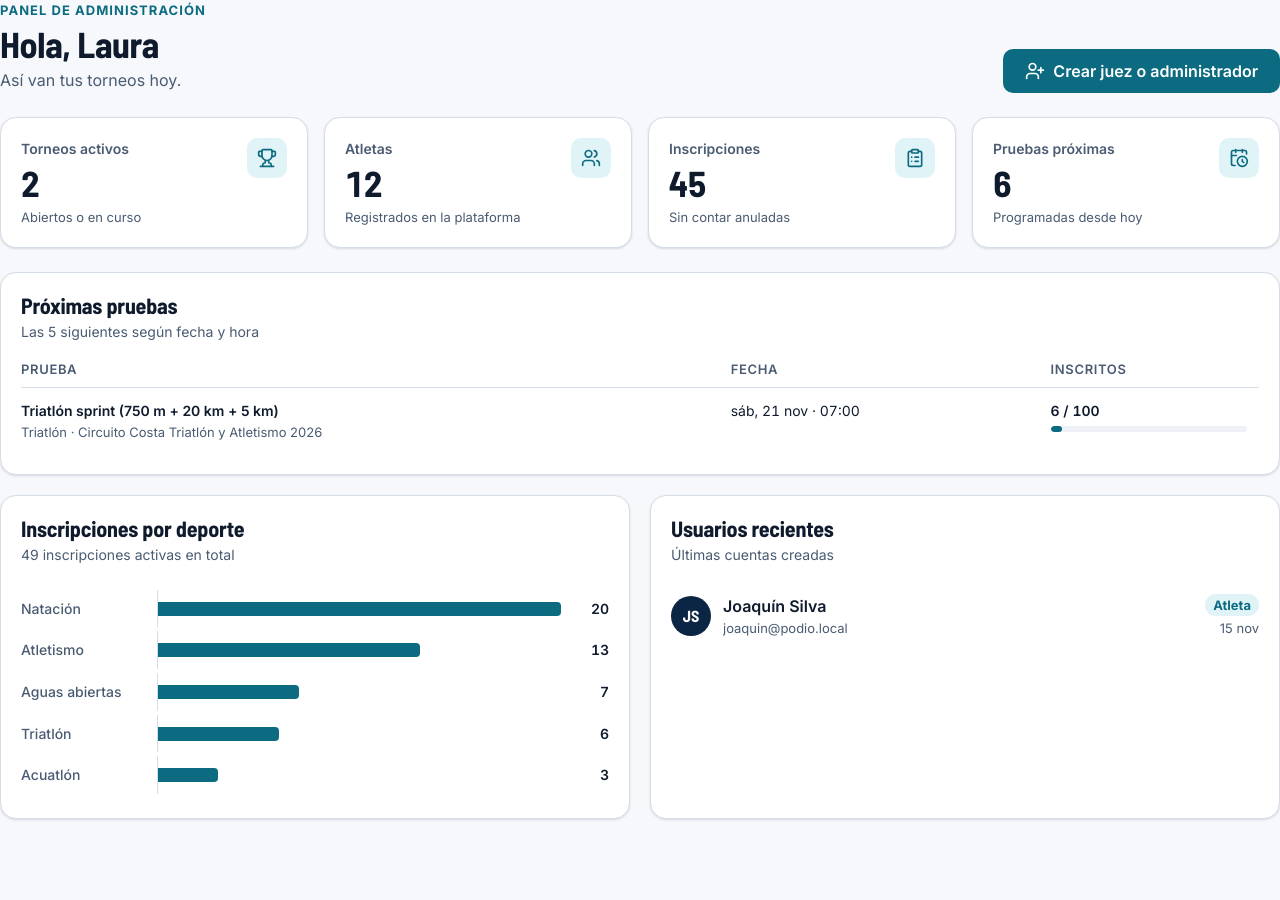
Test: DashboardPage › al crear un juez con un correo existente muestra el error junto al campo
Click the button "Crear juez o administrador".
click(1142, 70)  # box x1=1003 y1=48 x2=1279 y2=92
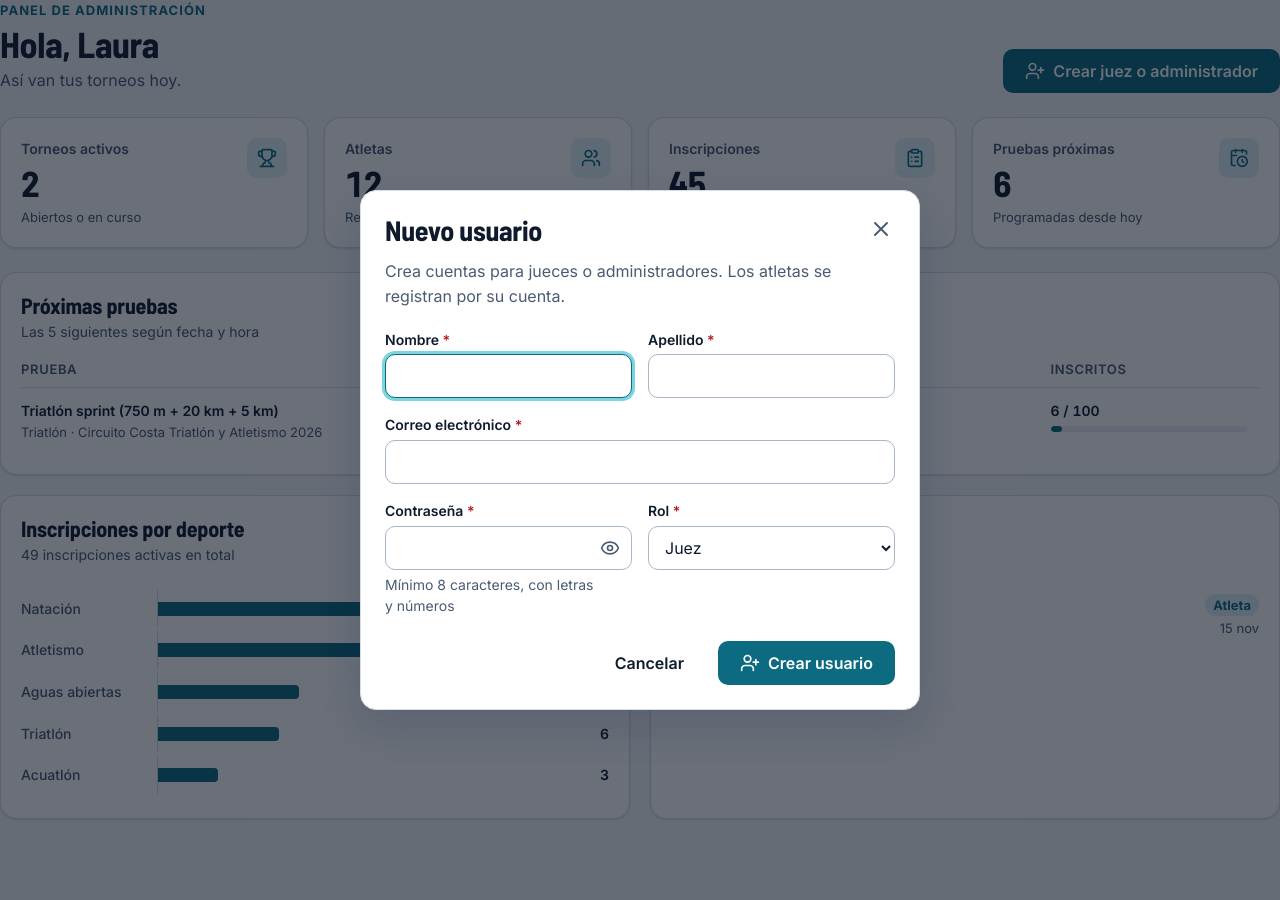
Type "Pedro" into the field labelled "Nombre *".
click(508, 376); type("Pedro")  # box x1=385 y1=354 x2=632 y2=398
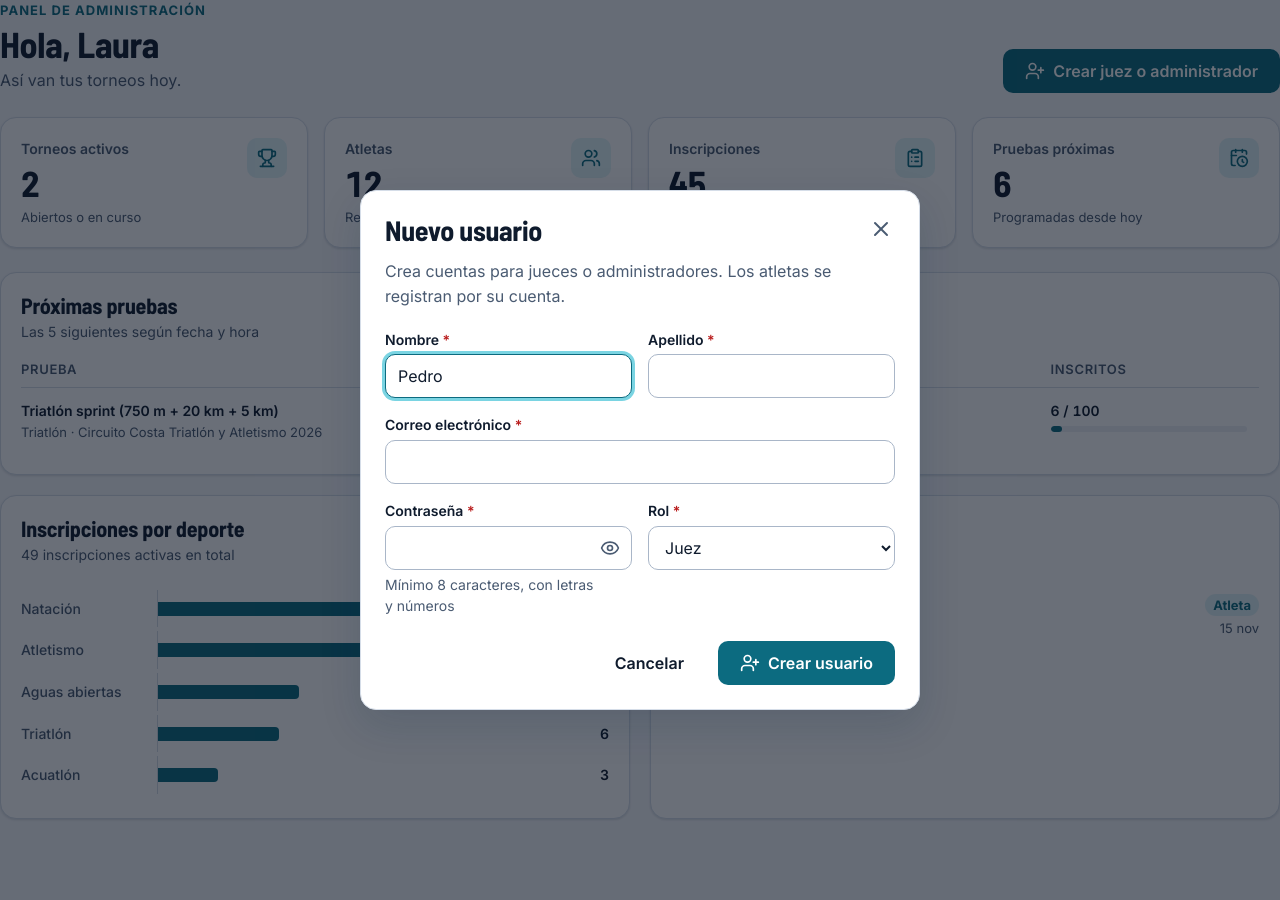
Type "Salas" into the field labelled "Apellido *".
click(772, 376); type("Salas")  # box x1=648 y1=354 x2=895 y2=398
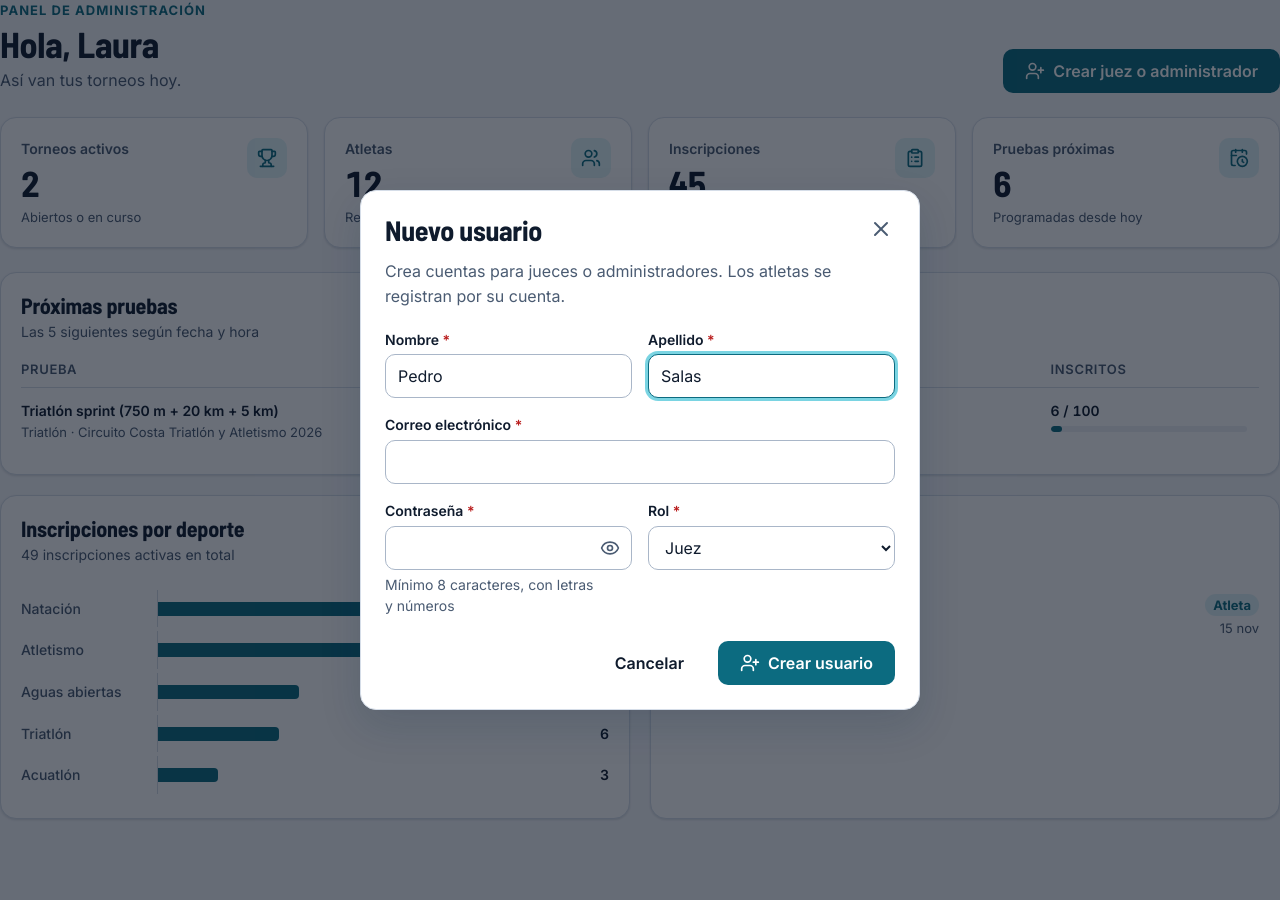
Type "admin@podio.local" into the field labelled "Correo electrónico *".
click(640, 462); type("admin@podio.local")  # box x1=385 y1=440 x2=895 y2=484
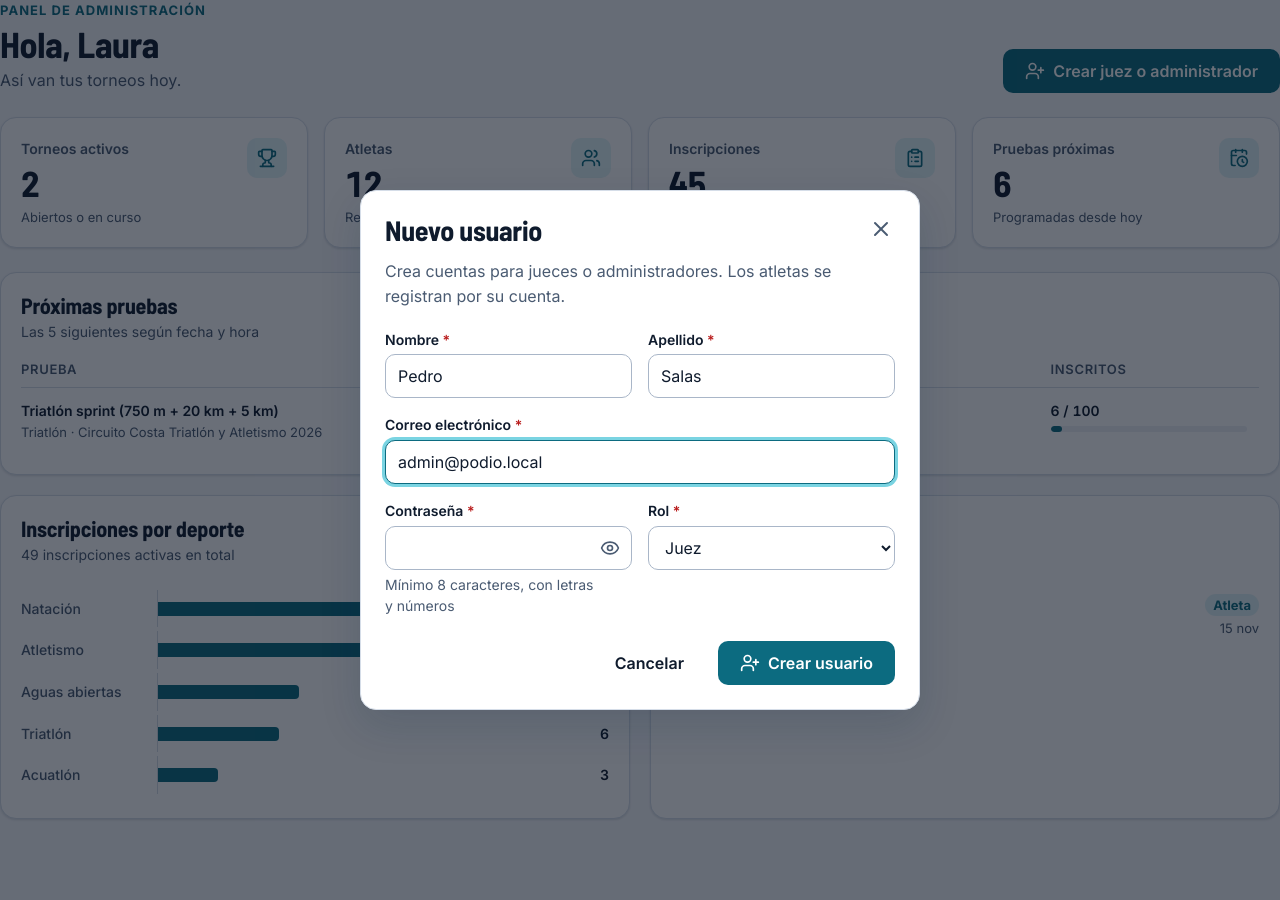
Type "JuezNuevo1" into the password field labelled "Contraseña *".
click(508, 548); type("JuezNuevo1")  # box x1=385 y1=526 x2=632 y2=570
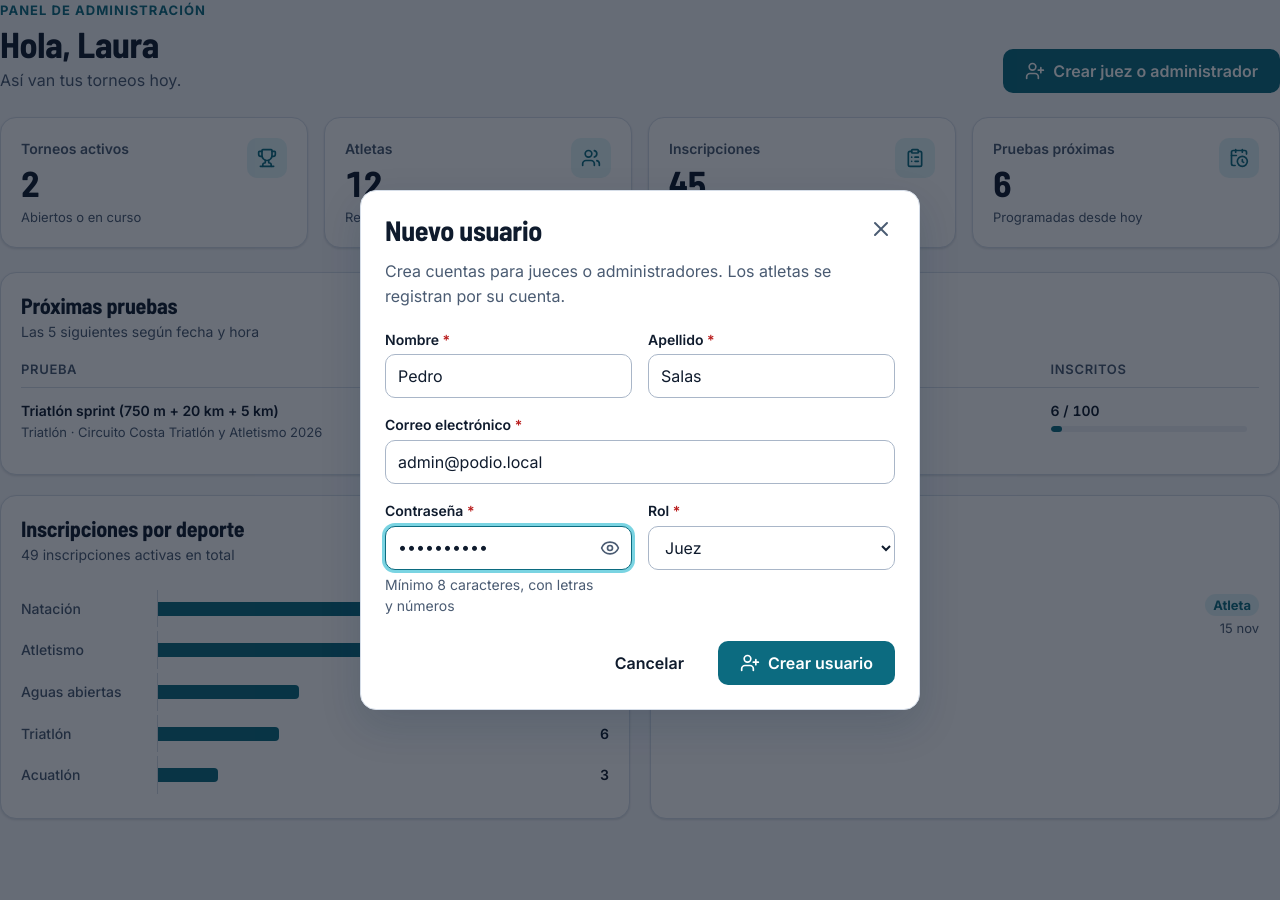
Click the button "Crear usuario".
click(807, 663)  # box x1=718 y1=641 x2=895 y2=685
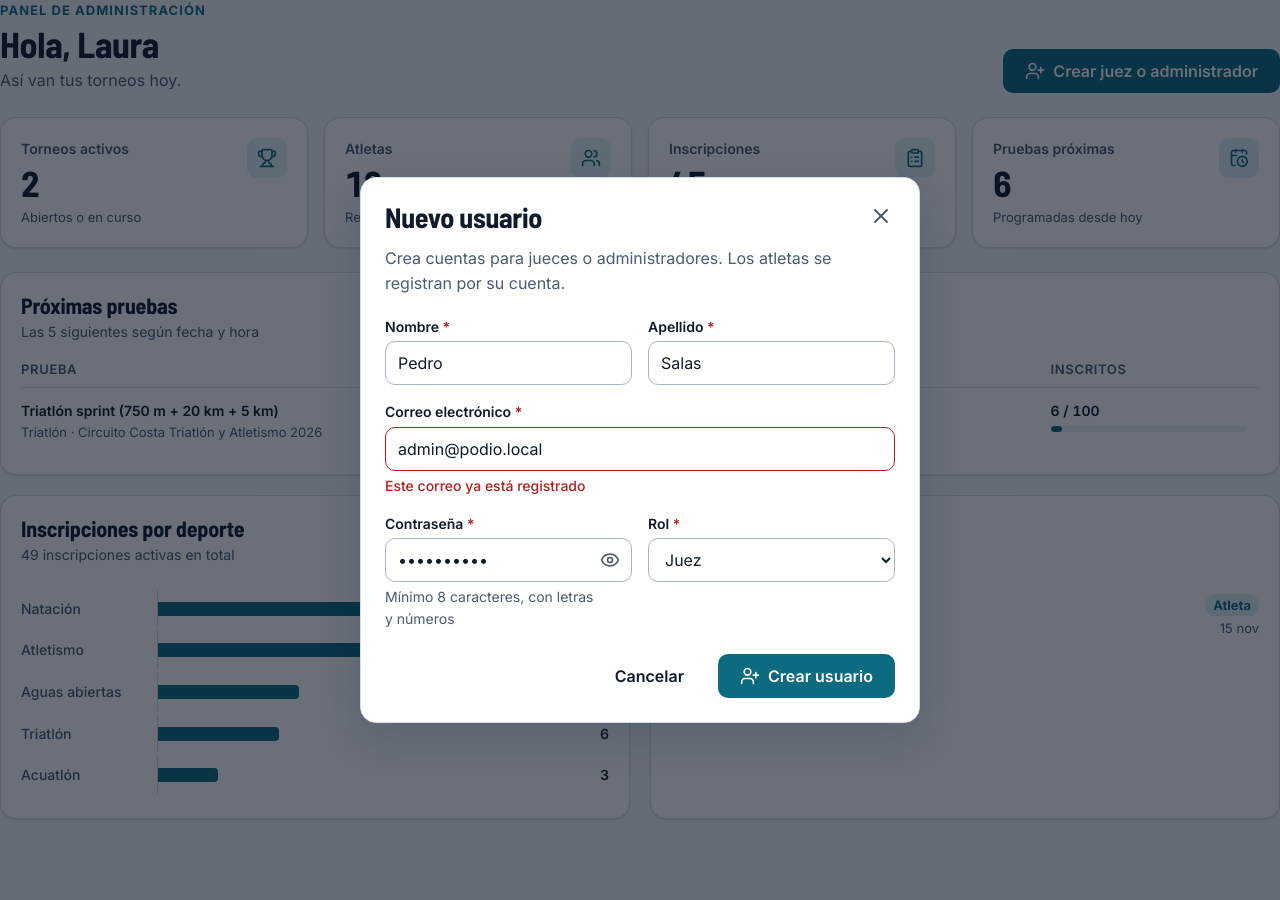
Check: the dialog is shown, box x1=360 y1=177 x2=920 y2=723
Check: the text "Este correo ya está registrado" is shown, box x1=385 y1=477 x2=586 y2=494
